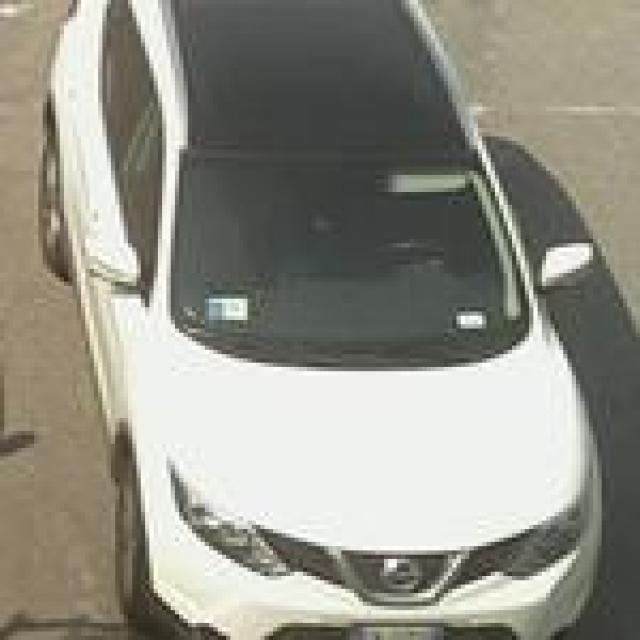cars-sUYr: (14, 0, 614, 640)
